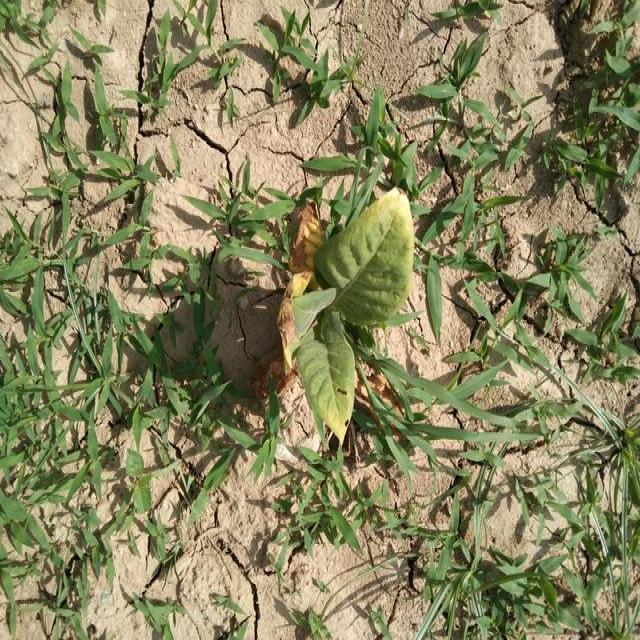crop: (275, 150, 410, 440)
